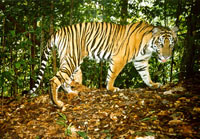Tigre: (46, 24, 177, 87)
